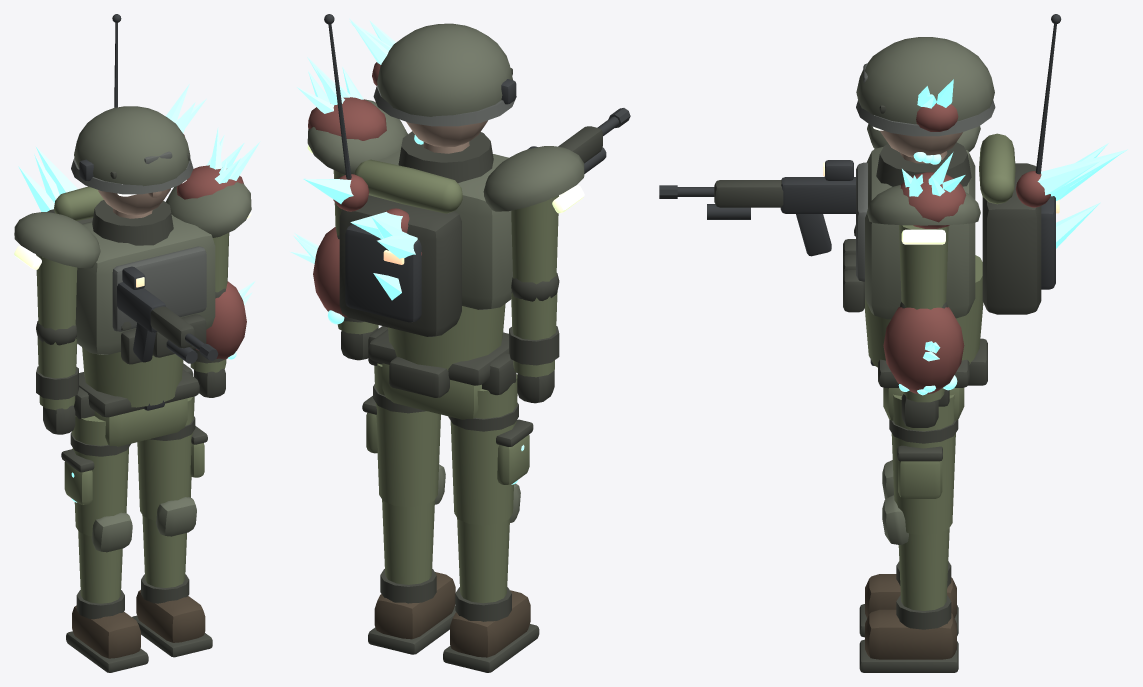
The model's file is trooper.glb.
3 renders of one model, left to right at view 1: azimuth 30°, elevation 25°; view 2: azimuth 150°, elevation 25°; view 3: azimuth 270°, elevation 25°, orthographic. The views are drawn at different scales.
Visible parts, largest first — view 1: torso_mesh, head_mesh, knee_r_mesh, knee_l_mesh, leg_r_mesh, leg_l_mesh, hips_mesh, gun_mesh, elbow_r_mesh, arm_r_mesh, grow2_torso, grow3_elbow_l (+4 smaller); view 2: torso_mesh, head_mesh, knee_r_mesh, knee_l_mesh, leg_r_mesh, leg_l_mesh, hips_mesh, elbow_r_mesh, grow3_torso, arm_r_mesh, grow2_torso, grow3_elbow_l (+3 smaller); view 3: torso_mesh, head_mesh, knee_l_mesh, gun_mesh, leg_l_mesh, grow3_elbow_l, grow3_torso, arm_l_mesh, grow2_torso, hips_mesh, knee_r_mesh, grow3_head (+1 smaller).
Boxes of the visible parts, left/top/right/bottom form: torso_mesh: left=14, top=14, right=251, bottom=407; head_mesh: left=71, top=106, right=193, bottom=218; knee_r_mesh: left=66, top=512, right=148, bottom=672; knee_l_mesh: left=132, top=497, right=212, bottom=657; leg_r_mesh: left=61, top=416, right=130, bottom=536; leg_l_mesh: left=137, top=396, right=207, bottom=520; hips_mesh: left=74, top=363, right=199, bottom=446; gun_mesh: left=117, top=266, right=218, bottom=363; elbow_r_mesh: left=36, top=321, right=78, bottom=434; arm_r_mesh: left=36, top=254, right=77, bottom=330; grow2_torso: left=176, top=127, right=260, bottom=199; grow3_elbow_l: left=206, top=281, right=254, bottom=359; torso_mesh: left=307, top=14, right=584, bottom=370; head_mesh: left=373, top=23, right=516, bottom=153; knee_r_mesh: left=443, top=483, right=539, bottom=672; knee_l_mesh: left=368, top=464, right=456, bottom=654; leg_r_mesh: left=448, top=374, right=533, bottom=525; leg_l_mesh: left=362, top=363, right=440, bottom=507; hips_mesh: left=368, top=326, right=516, bottom=419; elbow_r_mesh: left=509, top=273, right=559, bottom=403; grow3_torso: left=303, top=174, right=421, bottom=300; arm_r_mesh: left=511, top=195, right=558, bottom=284; grow2_torso: left=297, top=57, right=386, bottom=140; grow3_elbow_l: left=290, top=227, right=347, bottom=317; torso_mesh: left=843, top=14, right=1061, bottom=367; head_mesh: left=856, top=37, right=995, bottom=163; knee_l_mesh: left=859, top=495, right=958, bottom=672; gun_mesh: left=659, top=160, right=855, bottom=256; leg_l_mesh: left=889, top=394, right=958, bottom=535; grow3_elbow_l: left=883, top=307, right=964, bottom=394; grow3_torso: left=1015, top=143, right=1127, bottom=248; arm_l_mesh: left=899, top=225, right=948, bottom=309; grow2_torso: left=900, top=152, right=966, bottom=228; hips_mesh: left=870, top=338, right=987, bottom=420; knee_r_mesh: left=859, top=460, right=958, bottom=637; grow3_head: left=916, top=79, right=958, bottom=131.
Bounding box in the file's own units: 0.8538 × 1.96 × 1.28.
